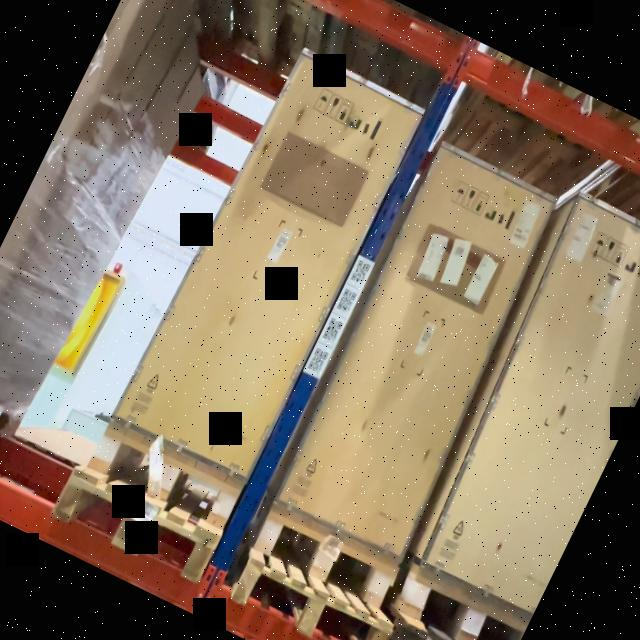box: (110, 51, 425, 485), (273, 145, 556, 562)
